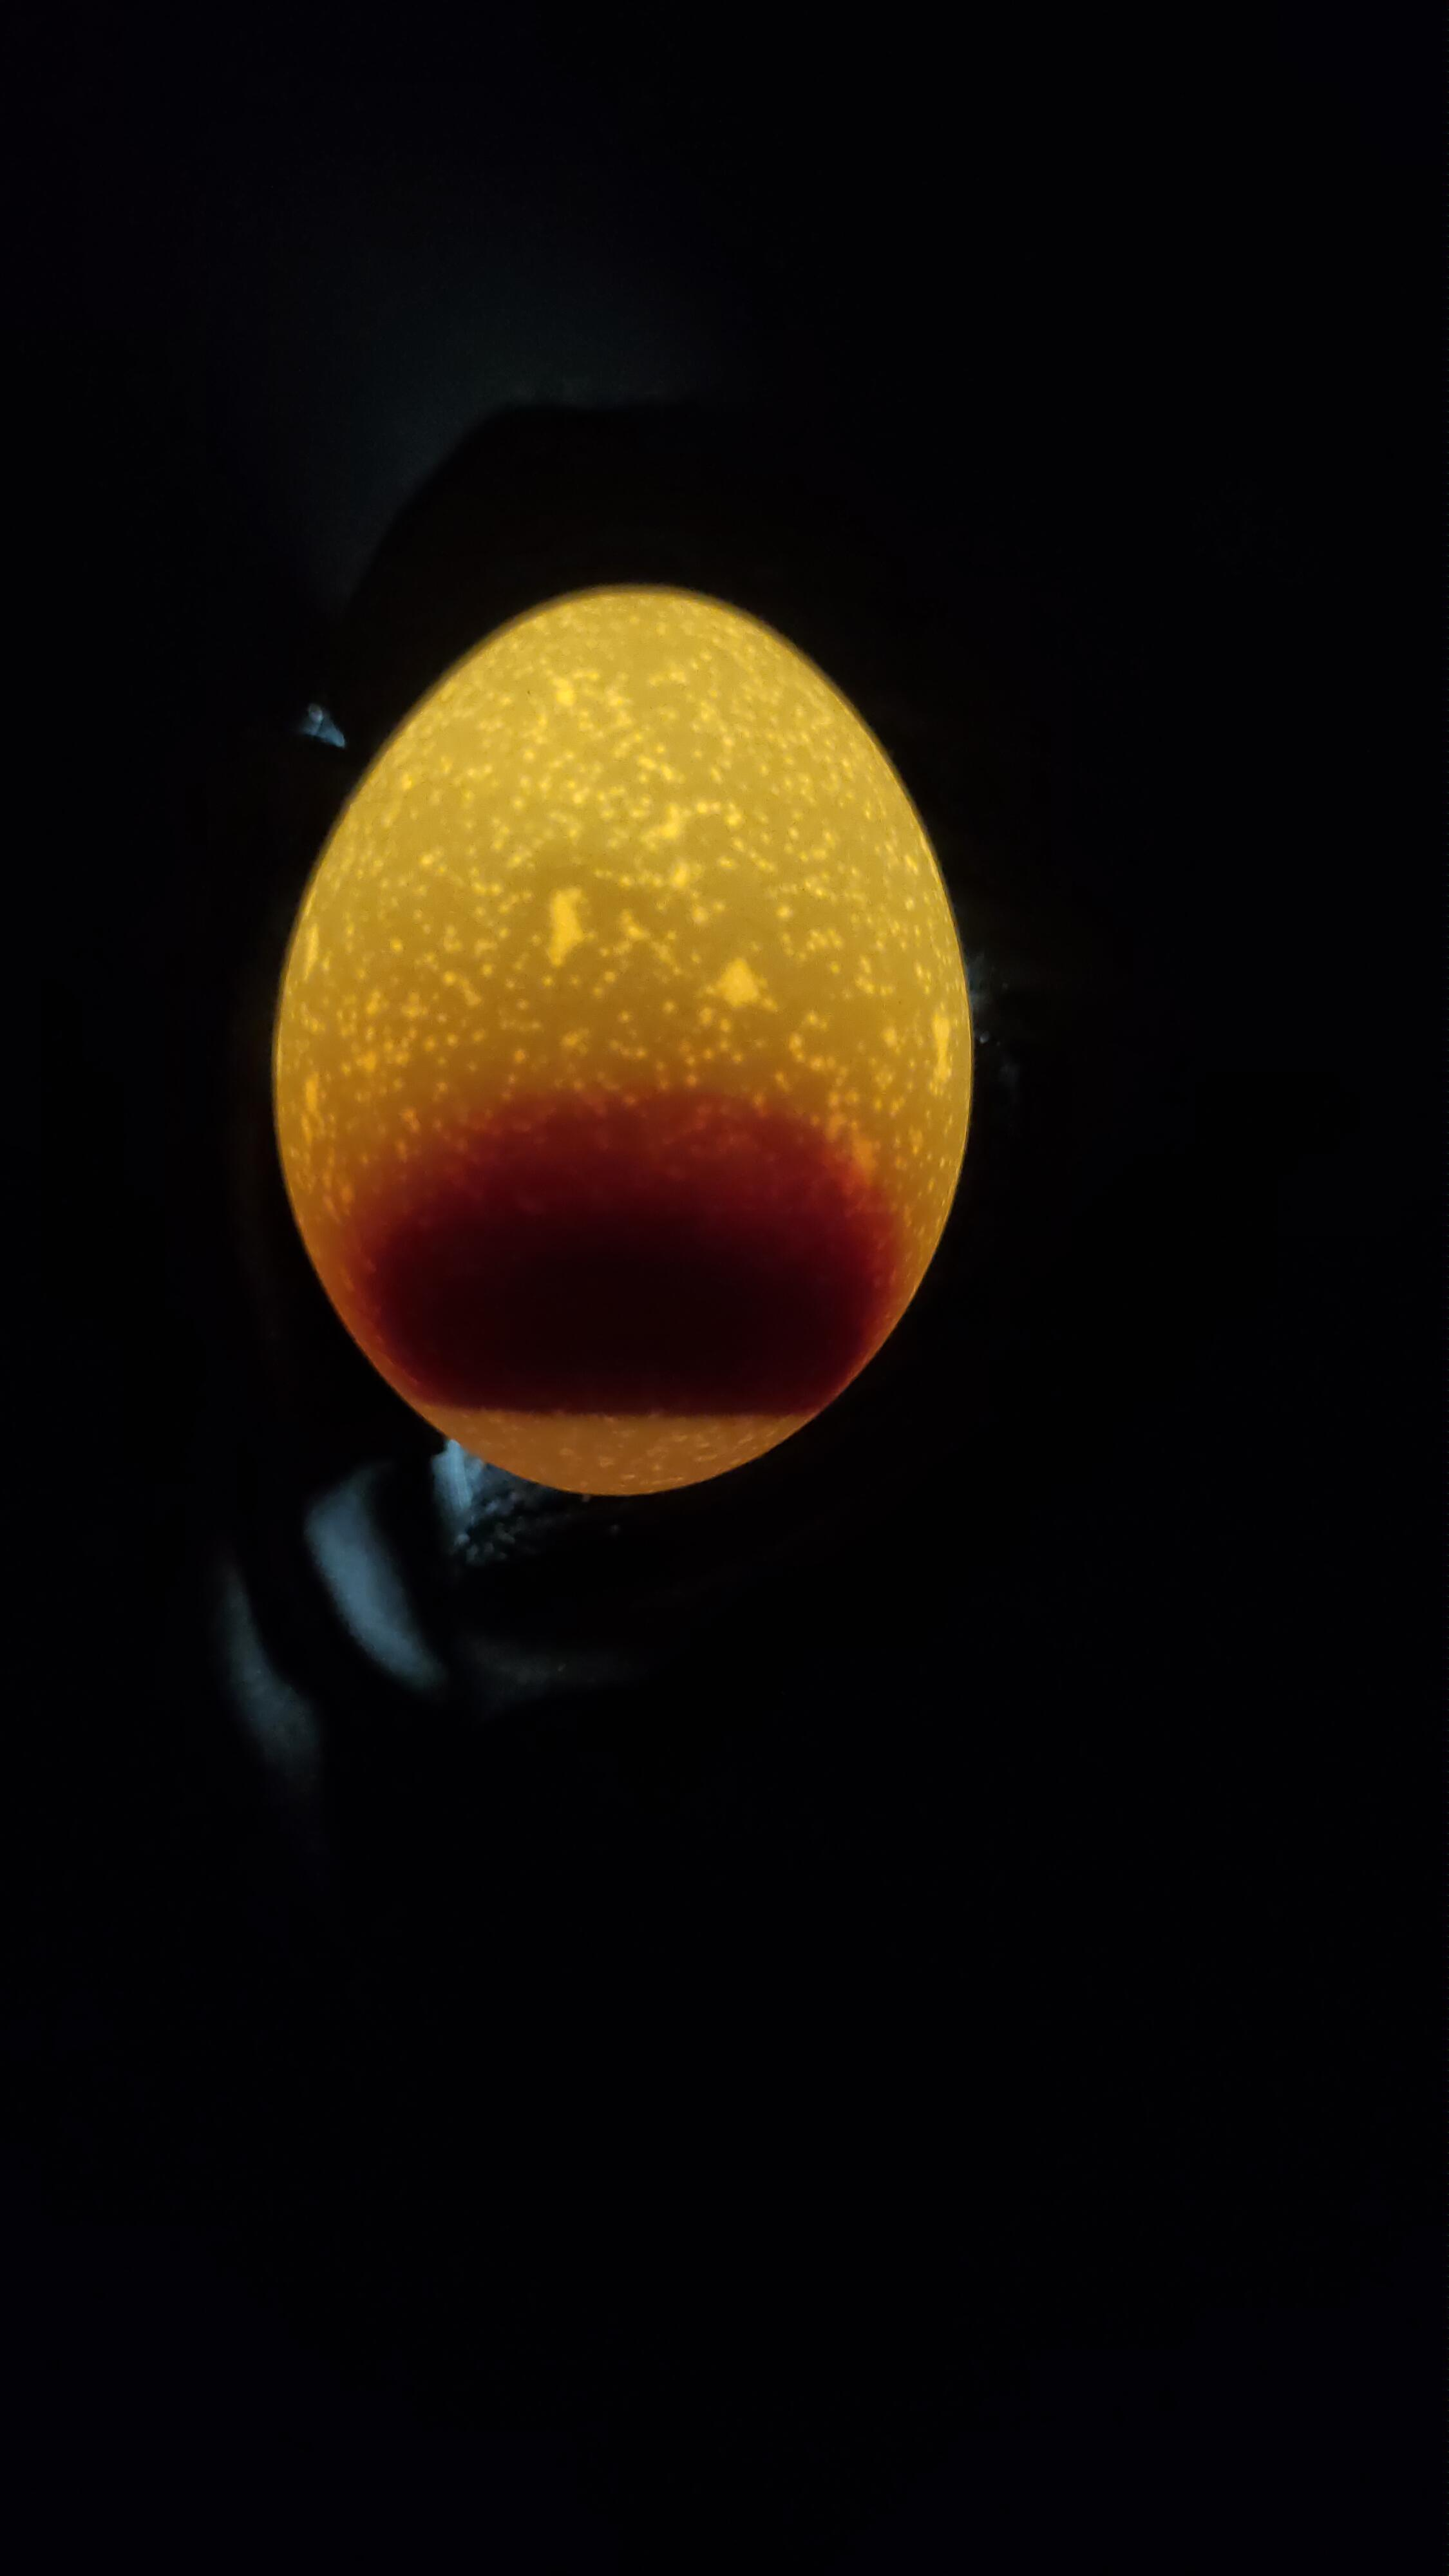AA - Premium: (235, 545, 1005, 1523)
